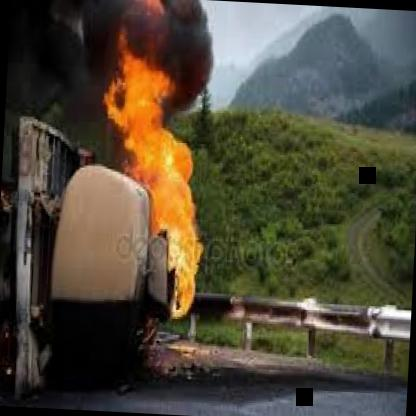fire: (49, 0, 218, 332)
